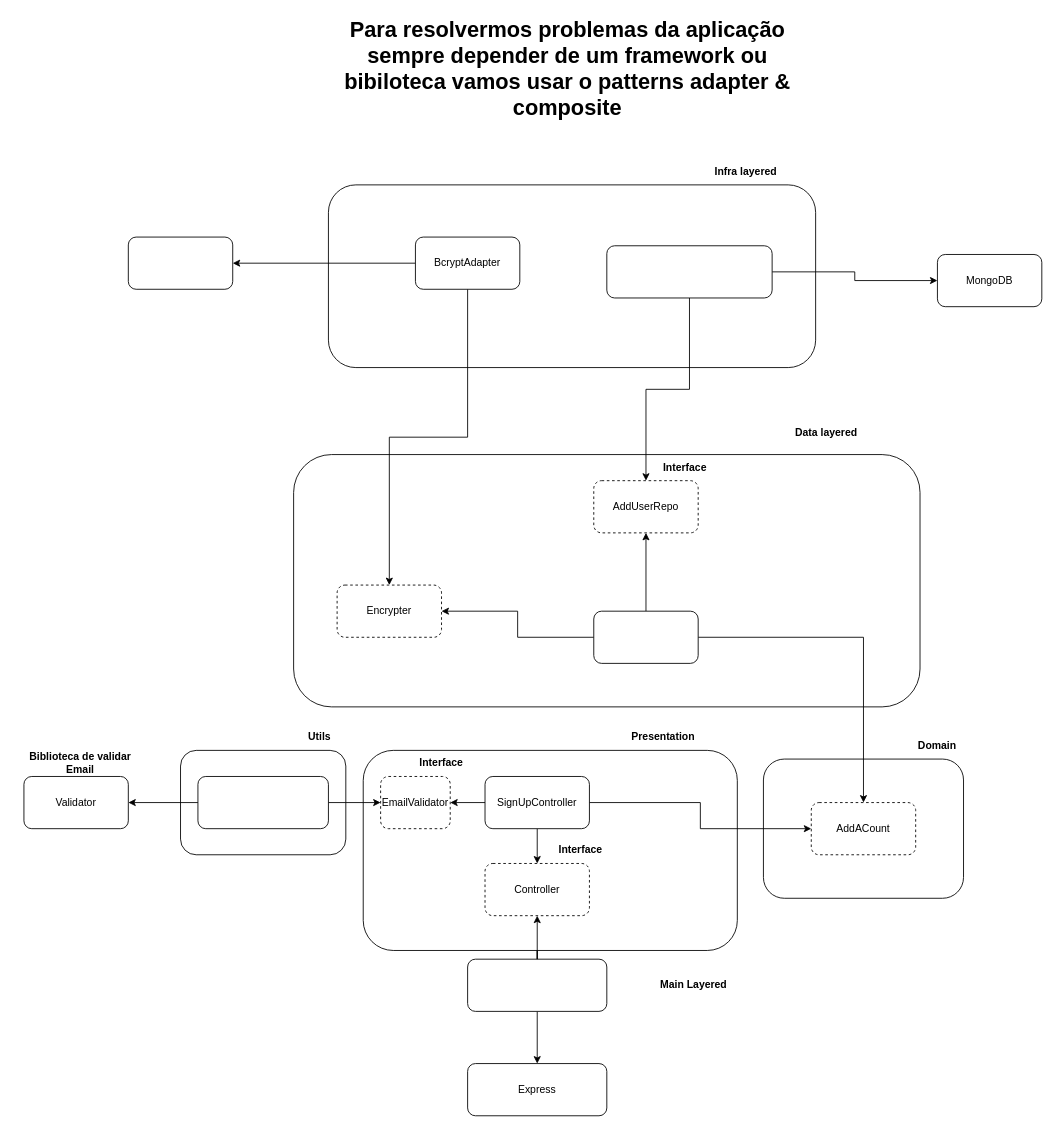
Image size: 1057x1131. Some labels were removed from this diagram. Each missing label, with the centre of its shape:
"AddUserMongoRepository" belongs at (x=689, y=271).
"Bcrypt" belongs at (x=180, y=262).
"DbAddAccount" belongs at (x=645, y=636).
"EmailValidatorAdapter" belongs at (x=262, y=802).
"ExpressRouteAdaptader" belongs at (x=537, y=984).
